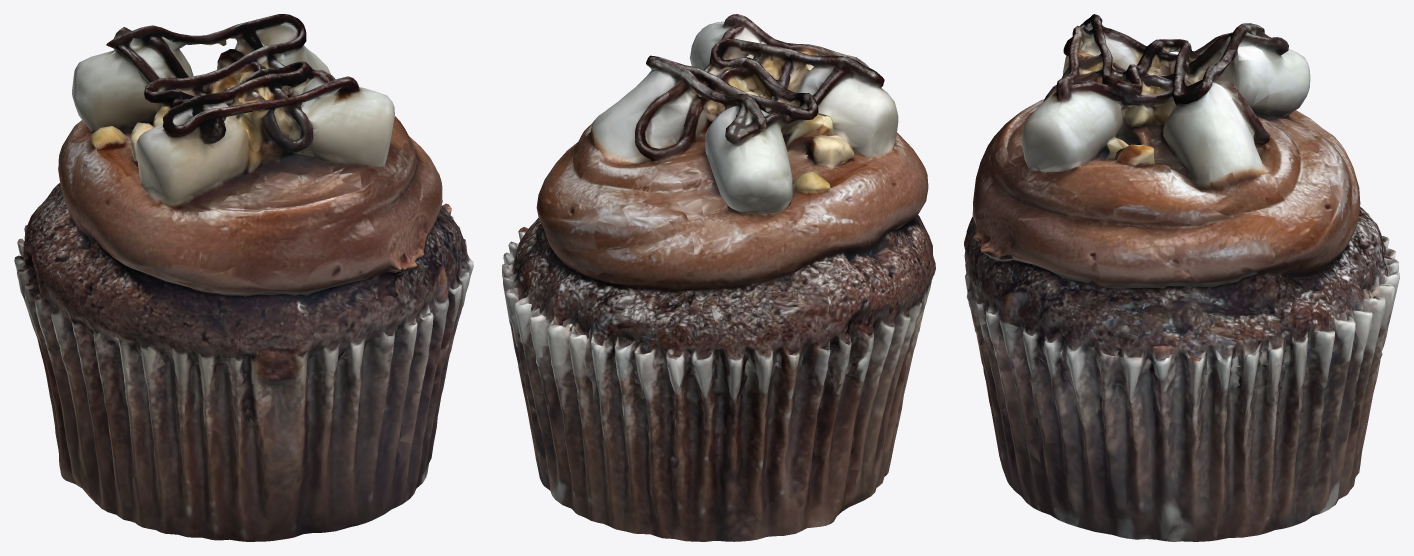
Rendered from cupcake-a.glb.
3 renders of one model, left to right at view 1: azimuth 30°, elevation 25°; view 2: azimuth 150°, elevation 25°; view 3: azimuth 270°, elevation 25°, orthographic. The views are drawn at different scales.
Visible parts, largest first — view 1: CupCake; view 2: CupCake; view 3: CupCake.
Part boxes in pixels (left/top/right/bottom): CupCake: left=14, top=14, right=473, bottom=541; CupCake: left=502, top=14, right=935, bottom=541; CupCake: left=964, top=14, right=1399, bottom=541.
Size of the model in its own units: 0.2946 by 0.3042 by 0.2918.
Materials: 3 (3 with a texture image).
